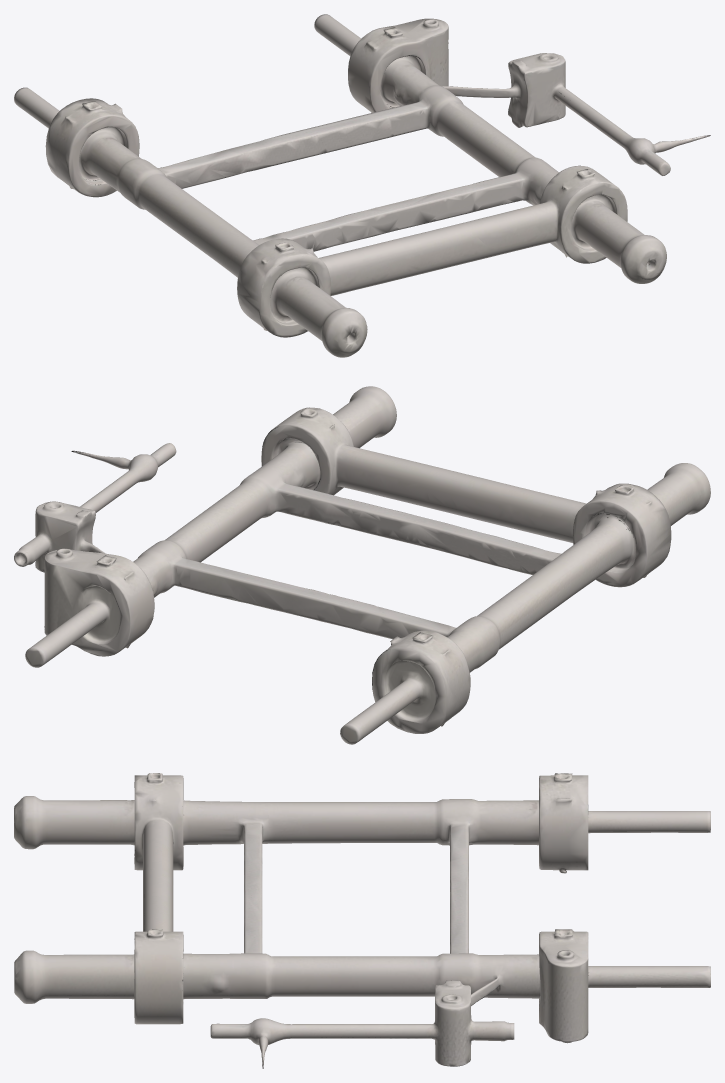
The model's file is external-fixator.glb.
3 renders of one model, top to bottom at view 1: azimuth 30°, elevation 25°; view 2: azimuth 150°, elevation 25°; view 3: azimuth 270°, elevation 25°, orthographic. The views are drawn at different scales.
Visible parts, largest first — view 1: model; view 2: model; view 3: model.
Boxes of the visible parts, x1=… form: model: x1=14, y1=14, x2=710, y2=357; model: x1=14, y1=386, x2=710, y2=744; model: x1=14, y1=773, x2=710, y2=1068.
Size of the model in its own units: 1.71 by 0.2682 by 1.9.
1 material, 1 textured.
